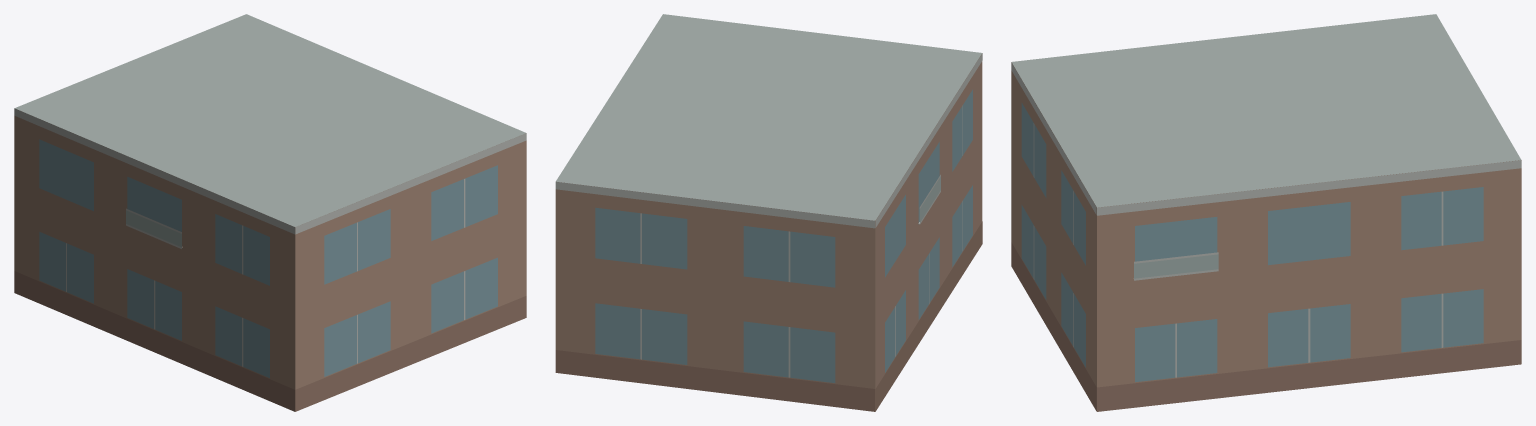
Rendered from survey-upis-32715375.glb.
The picture shows the model from 3 angles, left to right: view 1: azimuth 30°, elevation 25°; view 2: azimuth 150°, elevation 25°; view 3: azimuth 270°, elevation 25°; orthographic projection. The views are drawn at different scales.
Parts seen in each view (by area): view 1: survey-upis-32715375.tmp; view 2: survey-upis-32715375.tmp; view 3: survey-upis-32715375.tmp.
Boxes of the visible parts, <box> form: survey-upis-32715375.tmp: <box>14,14,526,411</box>; survey-upis-32715375.tmp: <box>555,14,982,411</box>; survey-upis-32715375.tmp: <box>1011,14,1521,411</box>.
Bounding box in the file's own units: 12.41 × 6.1 × 13.82.
